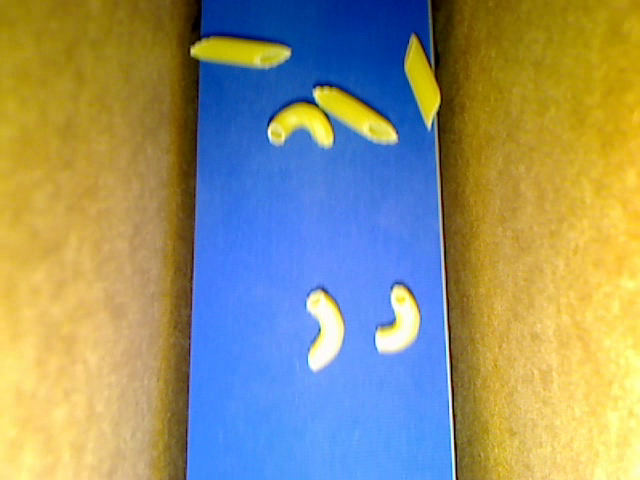elbow: (374, 282, 421, 352), (267, 101, 334, 149), (305, 289, 343, 370)
penne: (311, 84, 399, 146), (402, 32, 441, 131), (189, 36, 292, 69)
